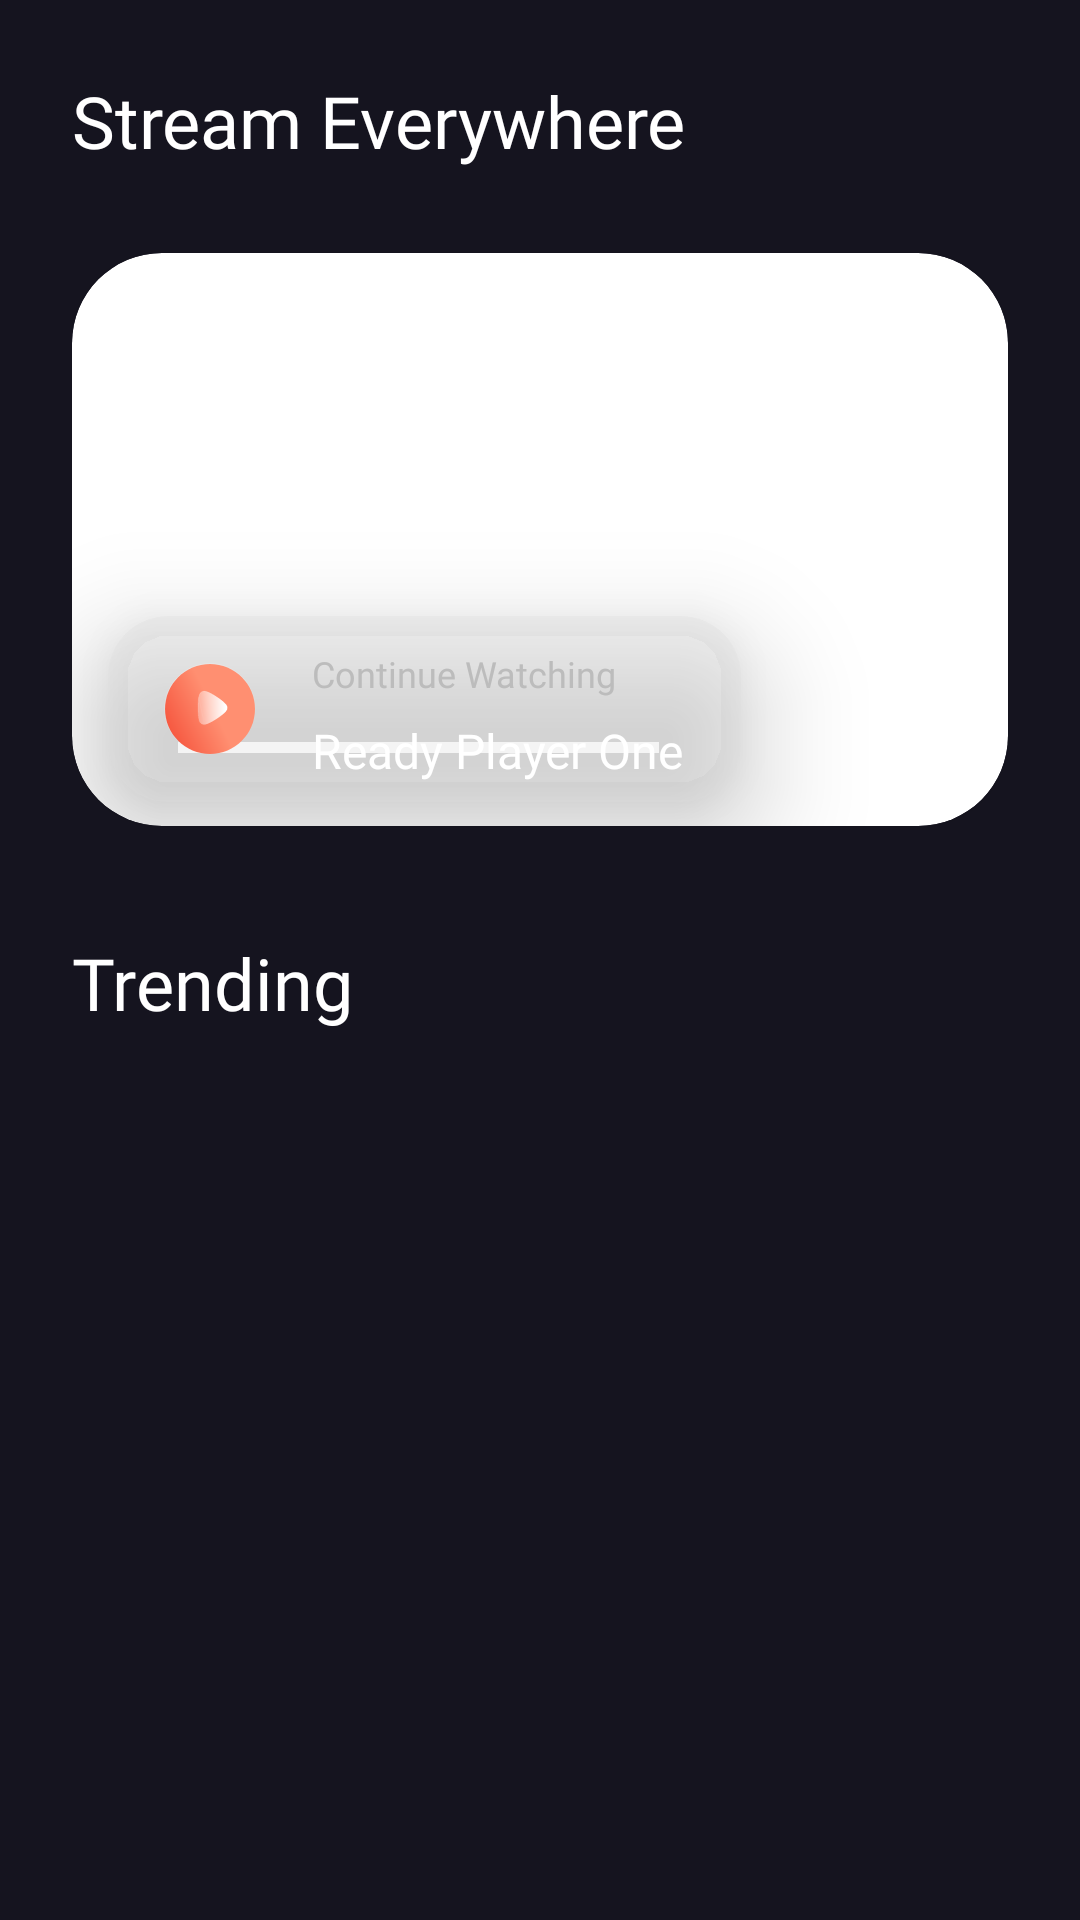

Where to tap for icons on this 1080×1920 app screen, as (x,y):
play icon in orange color: (220,709)
